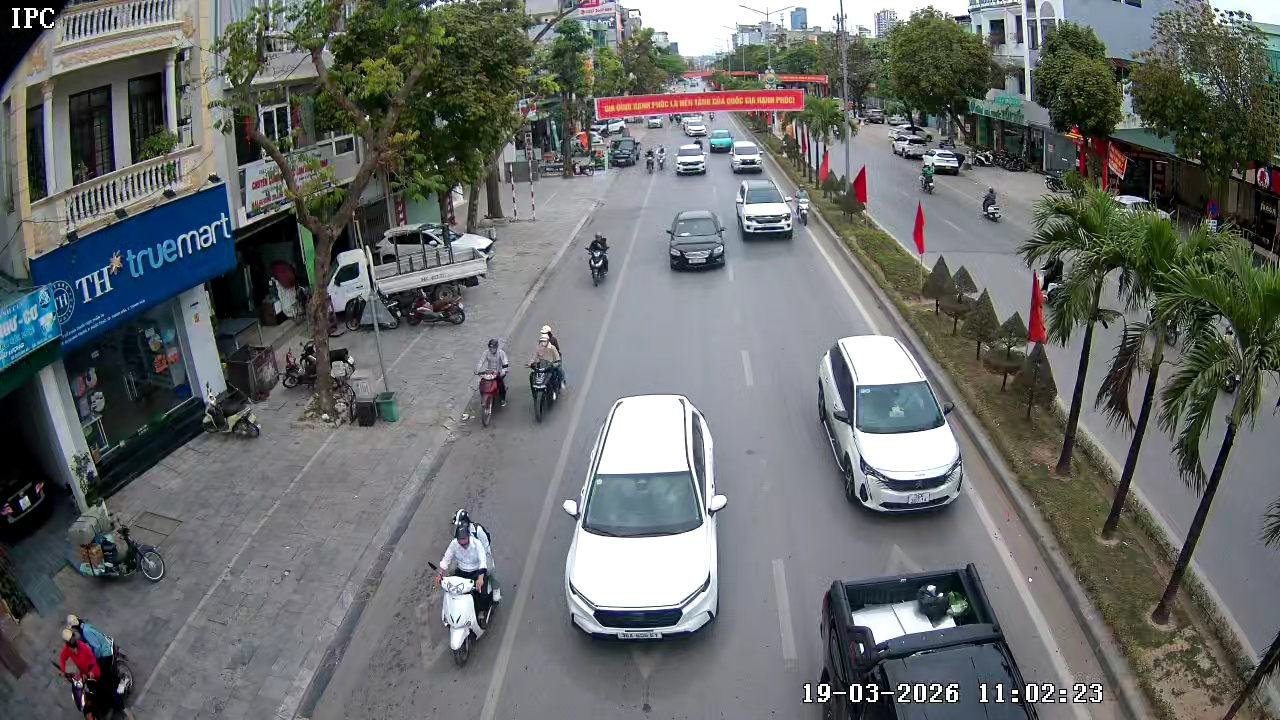car: (561, 393, 728, 647), (802, 560, 1046, 719), (814, 334, 966, 513), (664, 206, 729, 272), (733, 178, 795, 240), (729, 140, 765, 175), (674, 144, 707, 177), (706, 131, 735, 152)
motorbike: (435, 507, 503, 668), (51, 613, 136, 719), (70, 499, 167, 585), (525, 324, 568, 423), (471, 336, 513, 428), (584, 232, 612, 288), (980, 184, 1003, 224), (793, 183, 812, 226), (645, 144, 661, 173)
truck: (611, 136, 644, 170)
